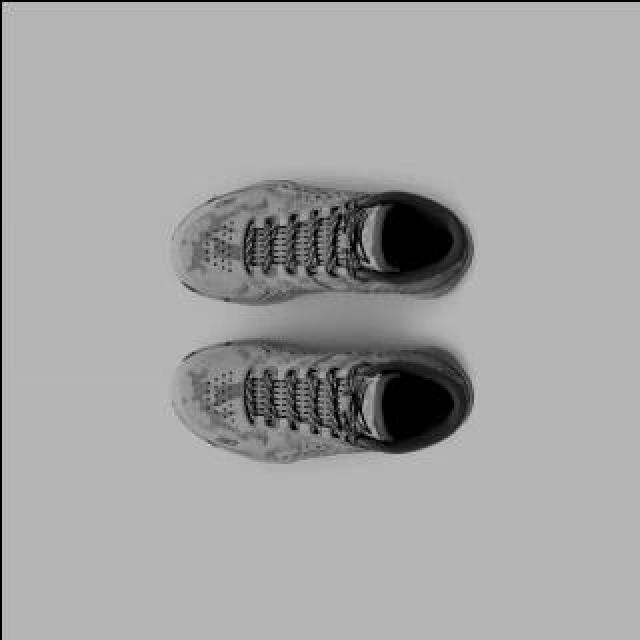shoe: (169, 178, 473, 306), (168, 337, 472, 461)
